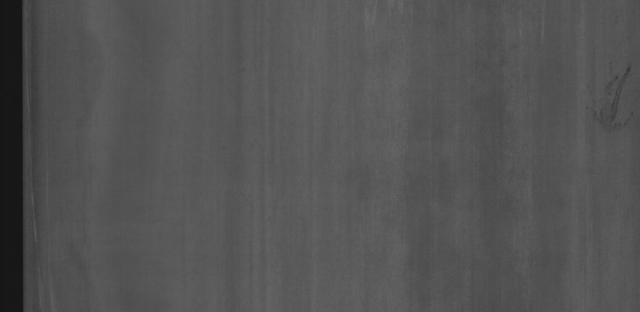water_spot: (581, 56, 637, 132)
